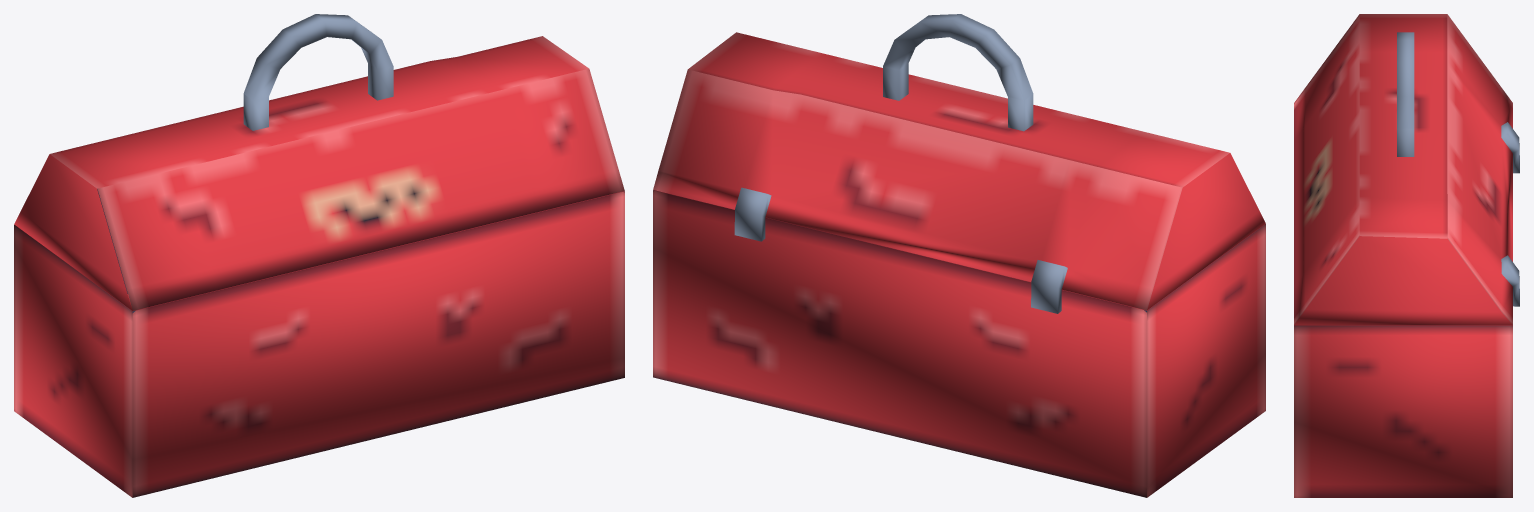
Rendered from CaixaDeFerramentas.fbx.
The picture shows the model from 3 angles, left to right: view 1: azimuth 30°, elevation 25°; view 2: azimuth 150°, elevation 25°; view 3: azimuth 270°, elevation 25°; orthographic projection. The views are drawn at different scales.
Parts seen in each view (by area): view 1: Caixa_Ferramentas_1; view 2: Caixa_Ferramentas_1; view 3: Caixa_Ferramentas_1.
Boxes of the visible parts, x1=… form: Caixa_Ferramentas_1: x1=14, y1=14, x2=624, y2=497; Caixa_Ferramentas_1: x1=653, y1=14, x2=1265, y2=497; Caixa_Ferramentas_1: x1=1294, y1=14, x2=1519, y2=497.
Size of the model in its own units: 72.35 by 31.06 by 52.7.
